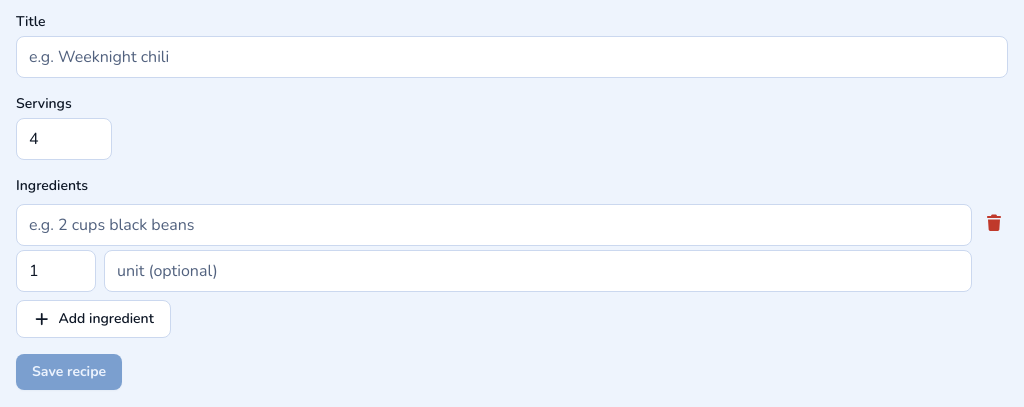
Test case: RecipeForm › pre-fills quantity/unit from the parser when an ingredient line is typed
This screenshot has width=1024, height=407.
Step 1. Type "2 cups black beans" into the field named "Ingredient 1" → (494, 225), box x1=16 y1=204 x2=972 y2=246
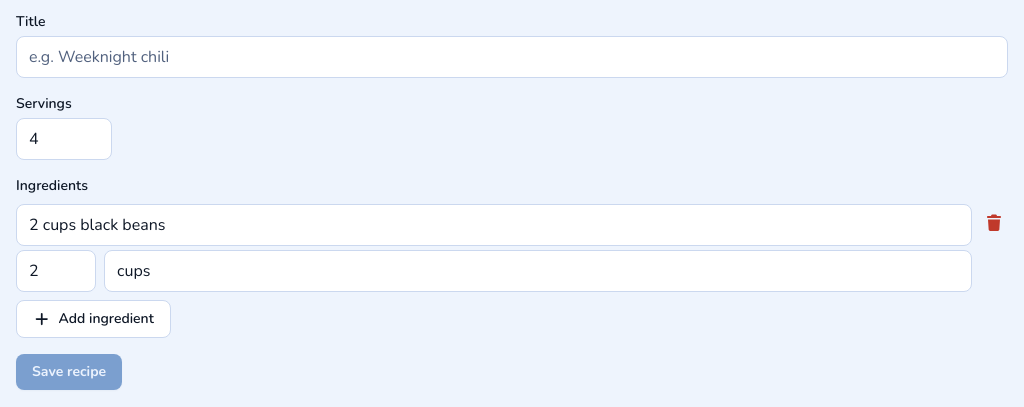
Result: the number field named "Quantity for ingredient 1" holds "2" at x1=16 y1=250 x2=96 y2=292
Result: the field named "Unit for ingredient 1" holds "cups" at x1=104 y1=250 x2=972 y2=292
